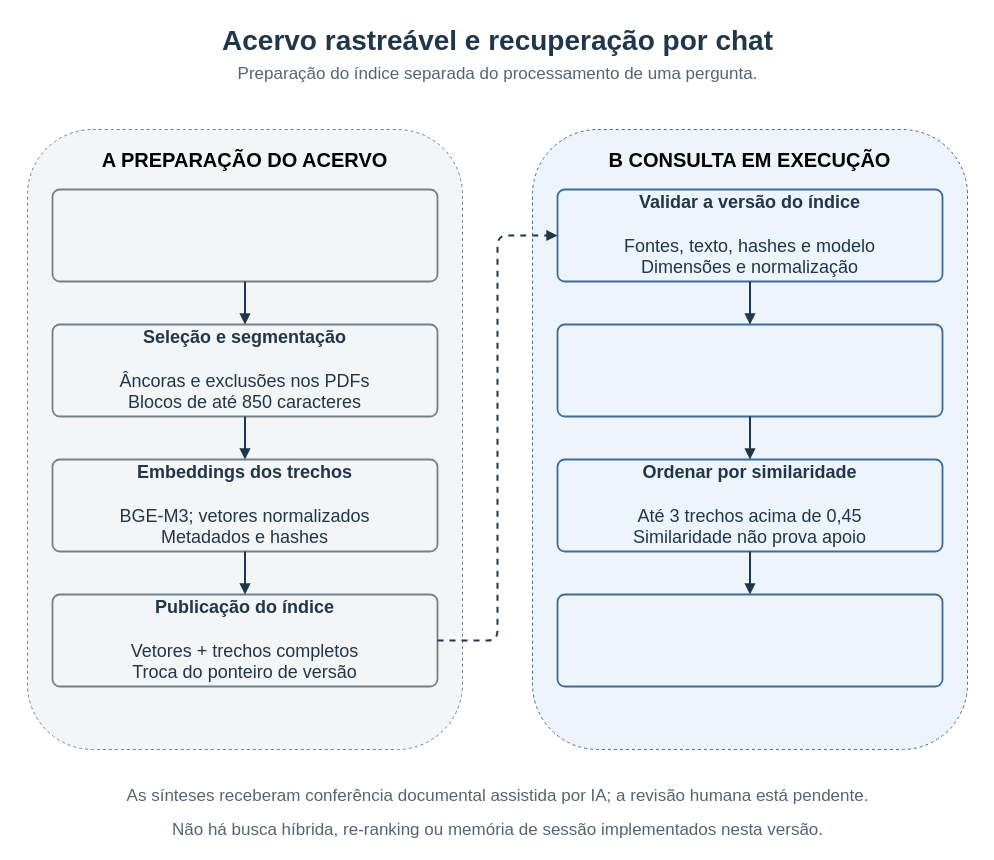
Some shapes in this 994 by 860 pixel diagram are drawn without their labels. The centre of each missing label's shape, as x and y in pixels:
Contexto para o gerador Trechos e IDs das fontes Sem trechos: informar limite: the point at 749,640
Filtrar o chat escolhido Pergunta e acervo do chat Embedding da pergunta: the point at 749,370
Fontes e manifesto 5 recortes de Ciências 3 sínteses experimentais: the point at 244,235
